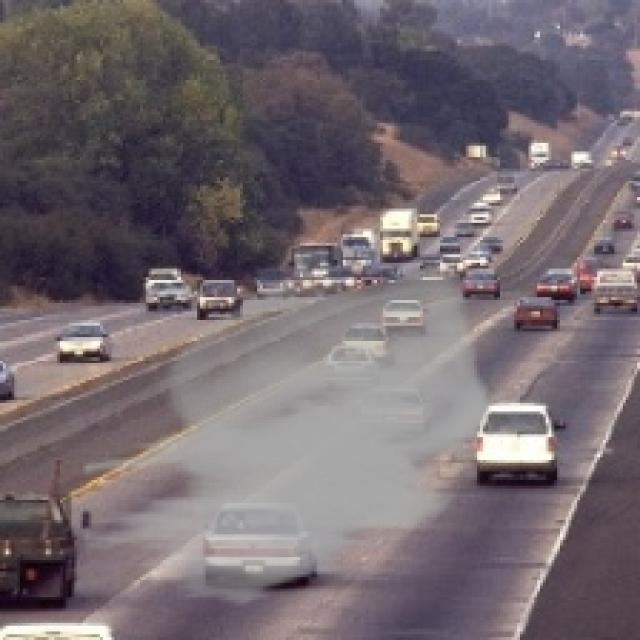smoke: (80, 260, 491, 609)
